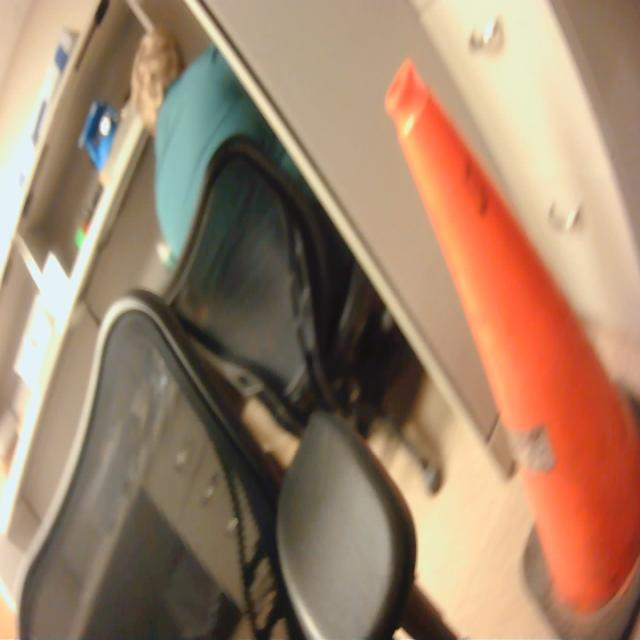traffic cone: (381, 51, 640, 640)
